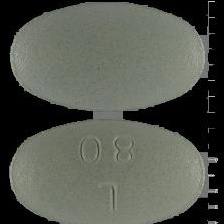63402-308: (0, 0, 224, 224)
